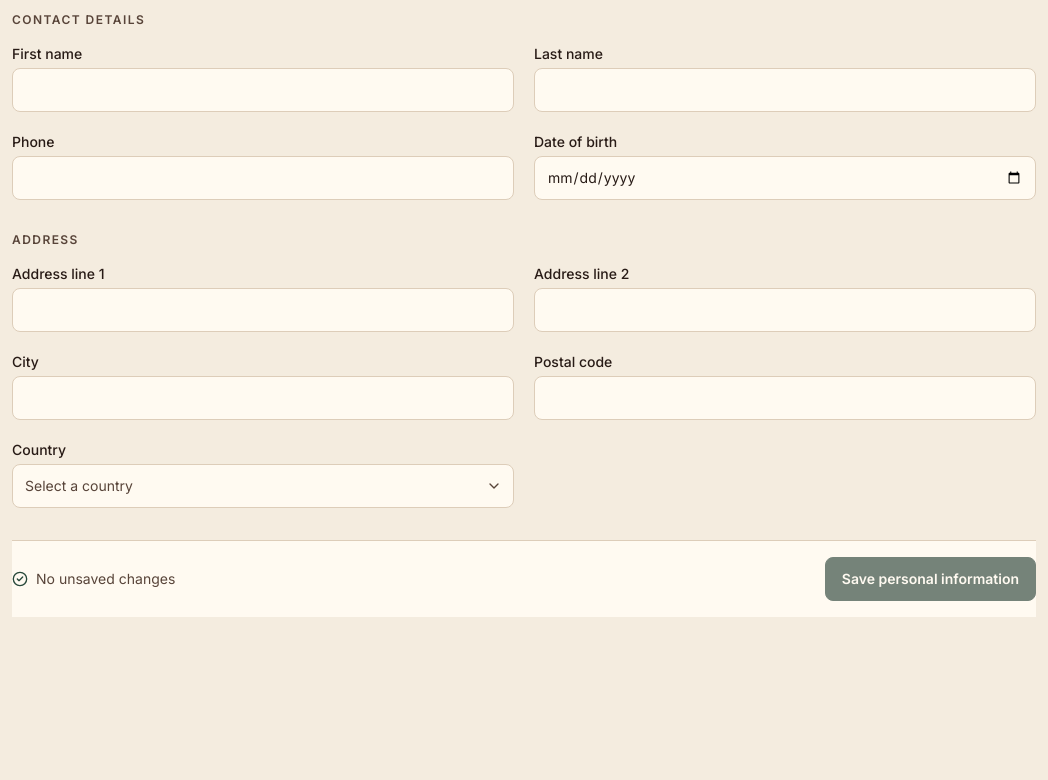
it: preserves personal values and shows accessible inline validation
Type "Ana" into the field labelled "First name" at (263, 90), box [12,68,514,112]
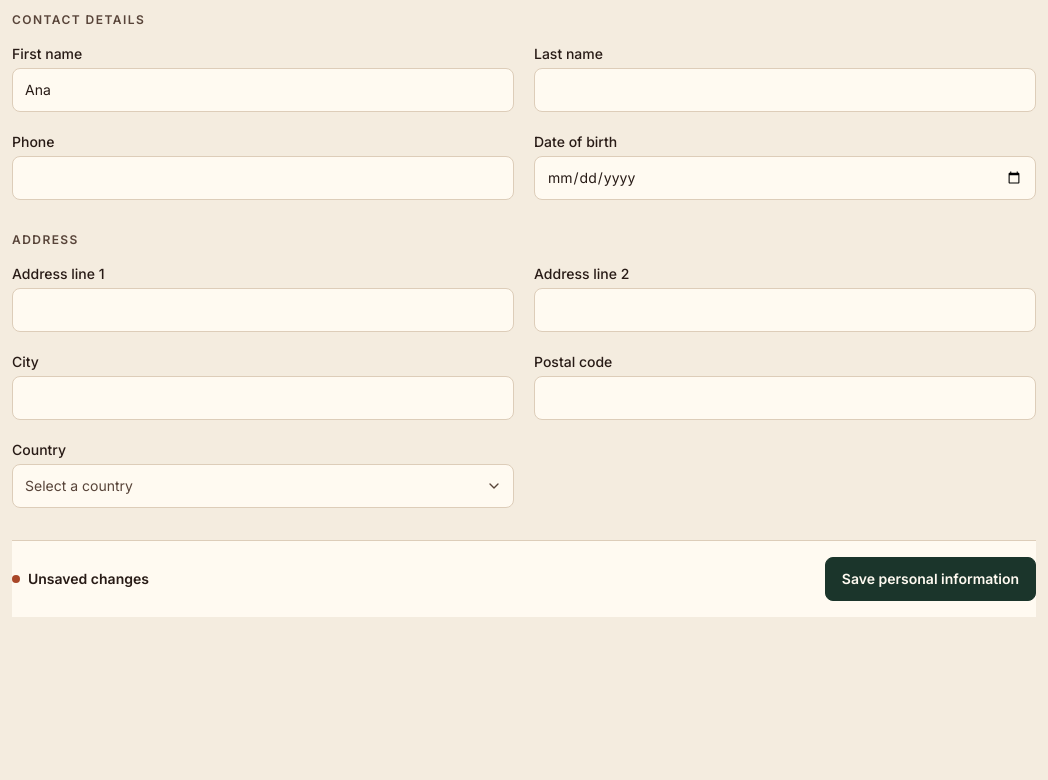
Type "wrong" into the field labelled "Phone" at (263, 178), box [12,156,514,200]
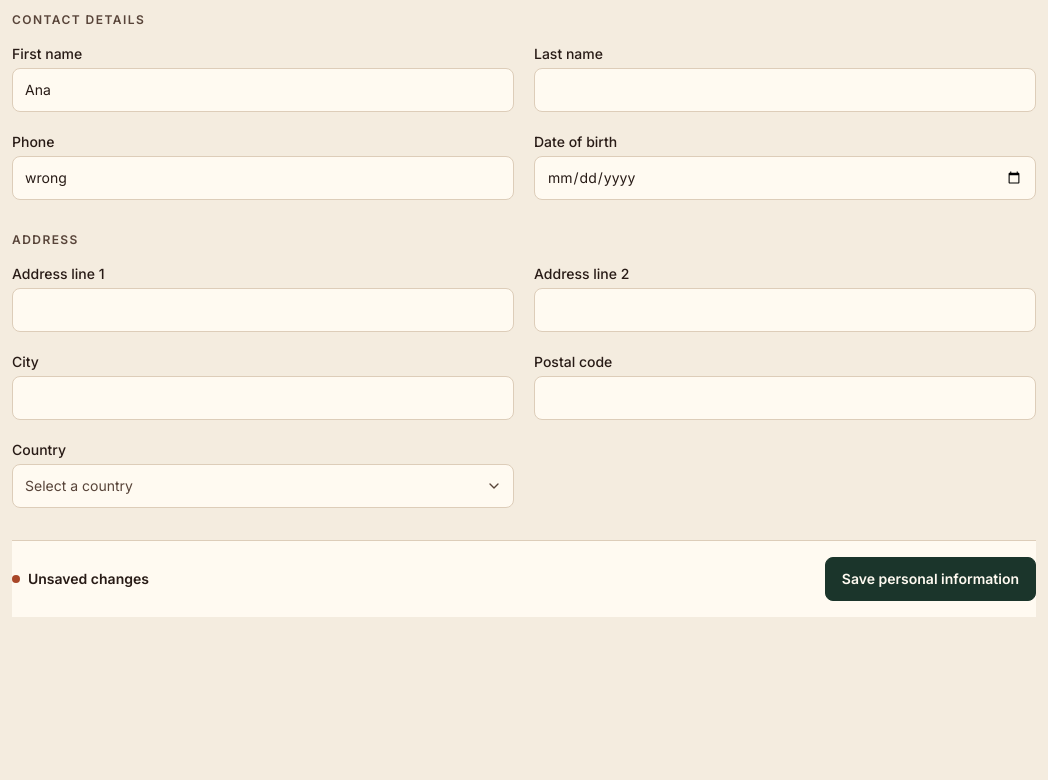
Submit the form named "Save personal information"
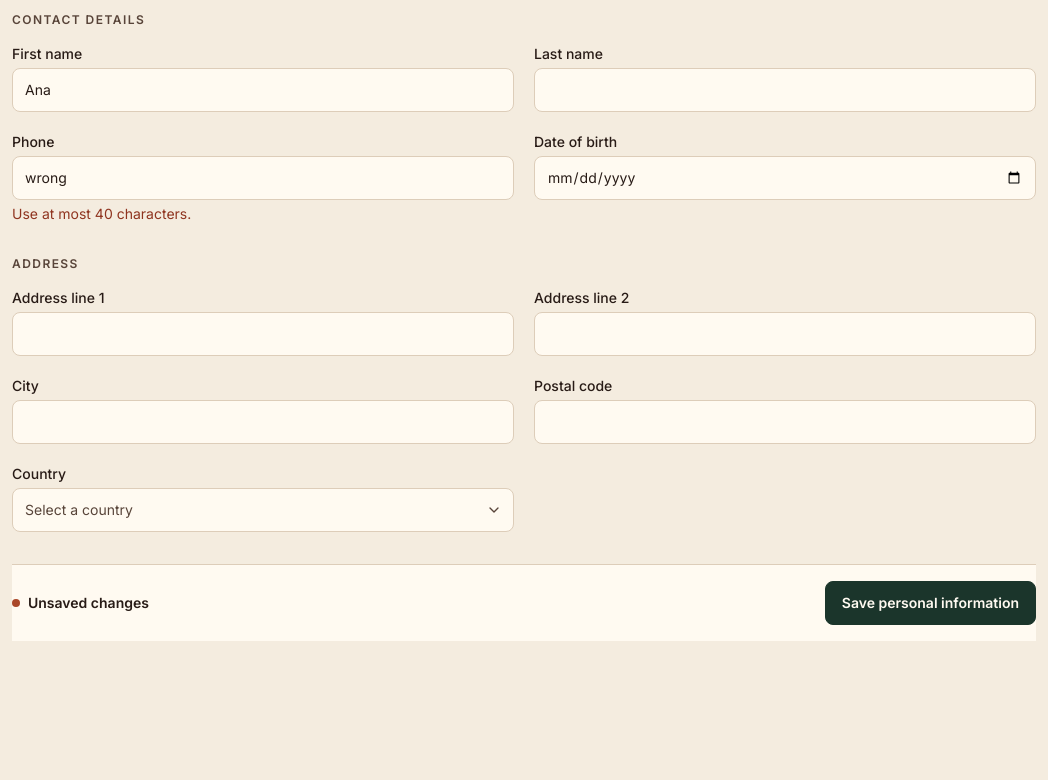
Expected: the text "Use at most 40 characters." is shown, [12,205,191,222]
Replace the text in the field labelled "Phone" with "123" at (263, 178), box [12,156,514,200]
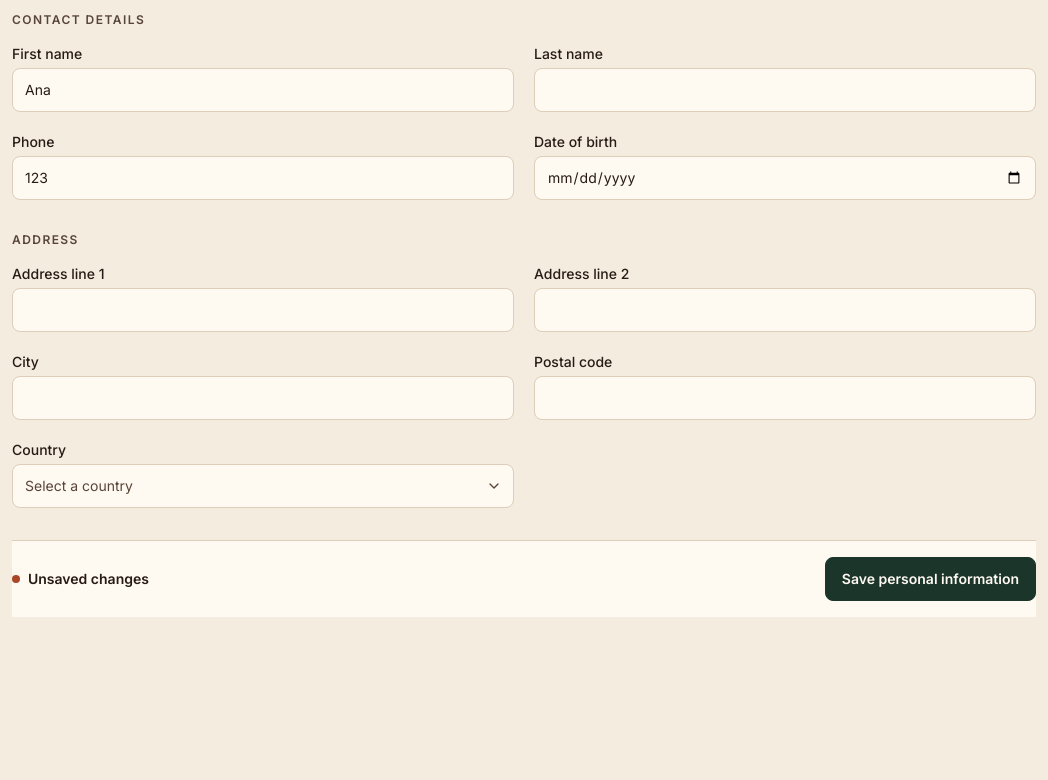
Expected: the text "Use at most 40 characters." is gone
